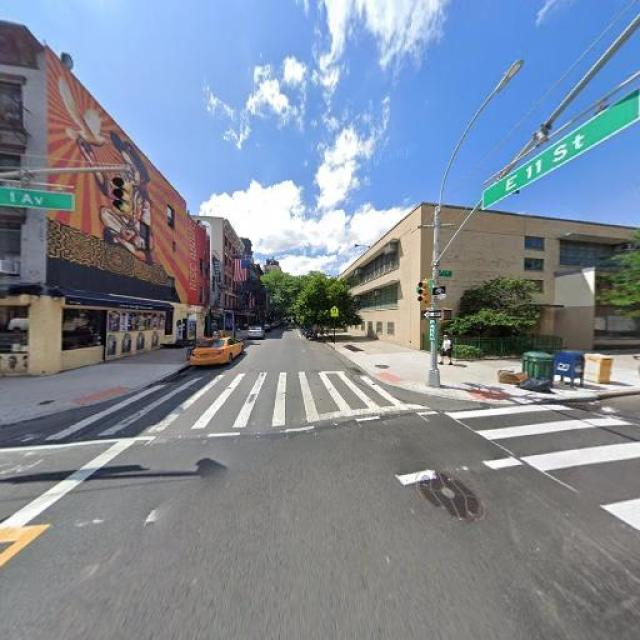Building: (1, 23, 190, 372), (333, 198, 640, 350)
